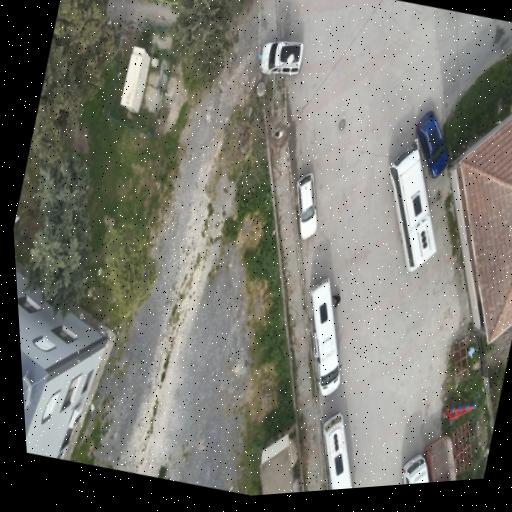bus: (388, 139, 435, 270), (309, 277, 340, 395), (322, 412, 352, 490), (401, 454, 428, 484)
car: (416, 111, 447, 177), (260, 40, 302, 74), (296, 172, 316, 239)
person: (332, 294, 340, 306)
truck: (425, 435, 455, 481)
